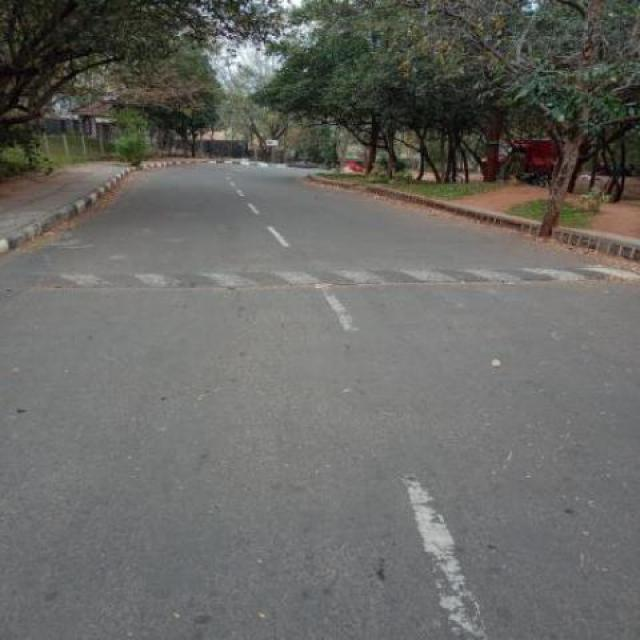Speed Bump: (0, 264, 639, 290)
